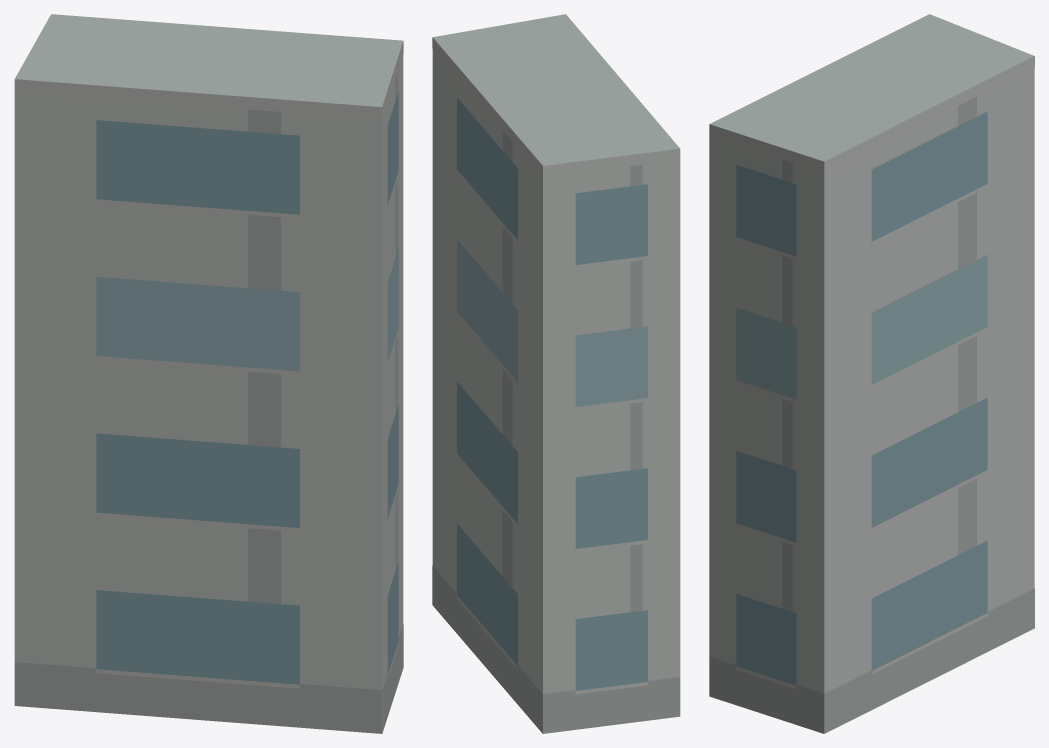
The model's file is survey-upis-32744384.glb.
3 renders of one model, left to right at view 1: azimuth 30°, elevation 25°; view 2: azimuth 150°, elevation 25°; view 3: azimuth 270°, elevation 25°, orthographic. The views are drawn at different scales.
Visible parts, largest first — view 1: survey-upis-32744384.tmp; view 2: survey-upis-32744384.tmp; view 3: survey-upis-32744384.tmp.
Boxes of the visible parts, bbox=[...] form: survey-upis-32744384.tmp: bbox=[14, 14, 403, 733]; survey-upis-32744384.tmp: bbox=[432, 14, 680, 733]; survey-upis-32744384.tmp: bbox=[709, 14, 1034, 733].
Size of the model in its own units: 6.75 by 12.2 by 6.29.
